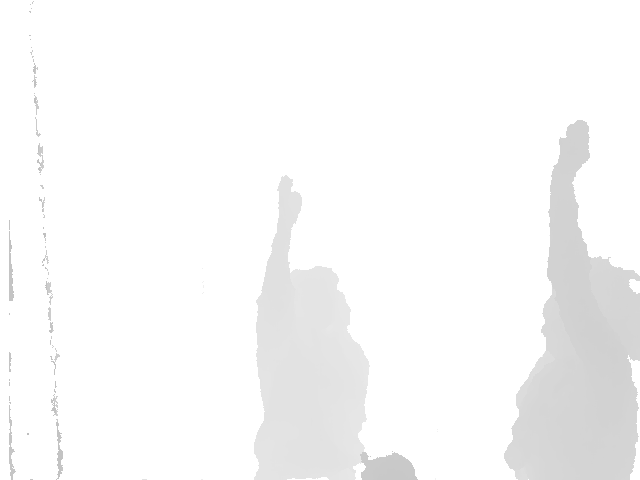hand: (553, 120, 589, 183), (277, 176, 303, 226)
head: (541, 255, 640, 361), (280, 268, 351, 336)
person: (502, 119, 640, 480), (252, 176, 369, 479)
